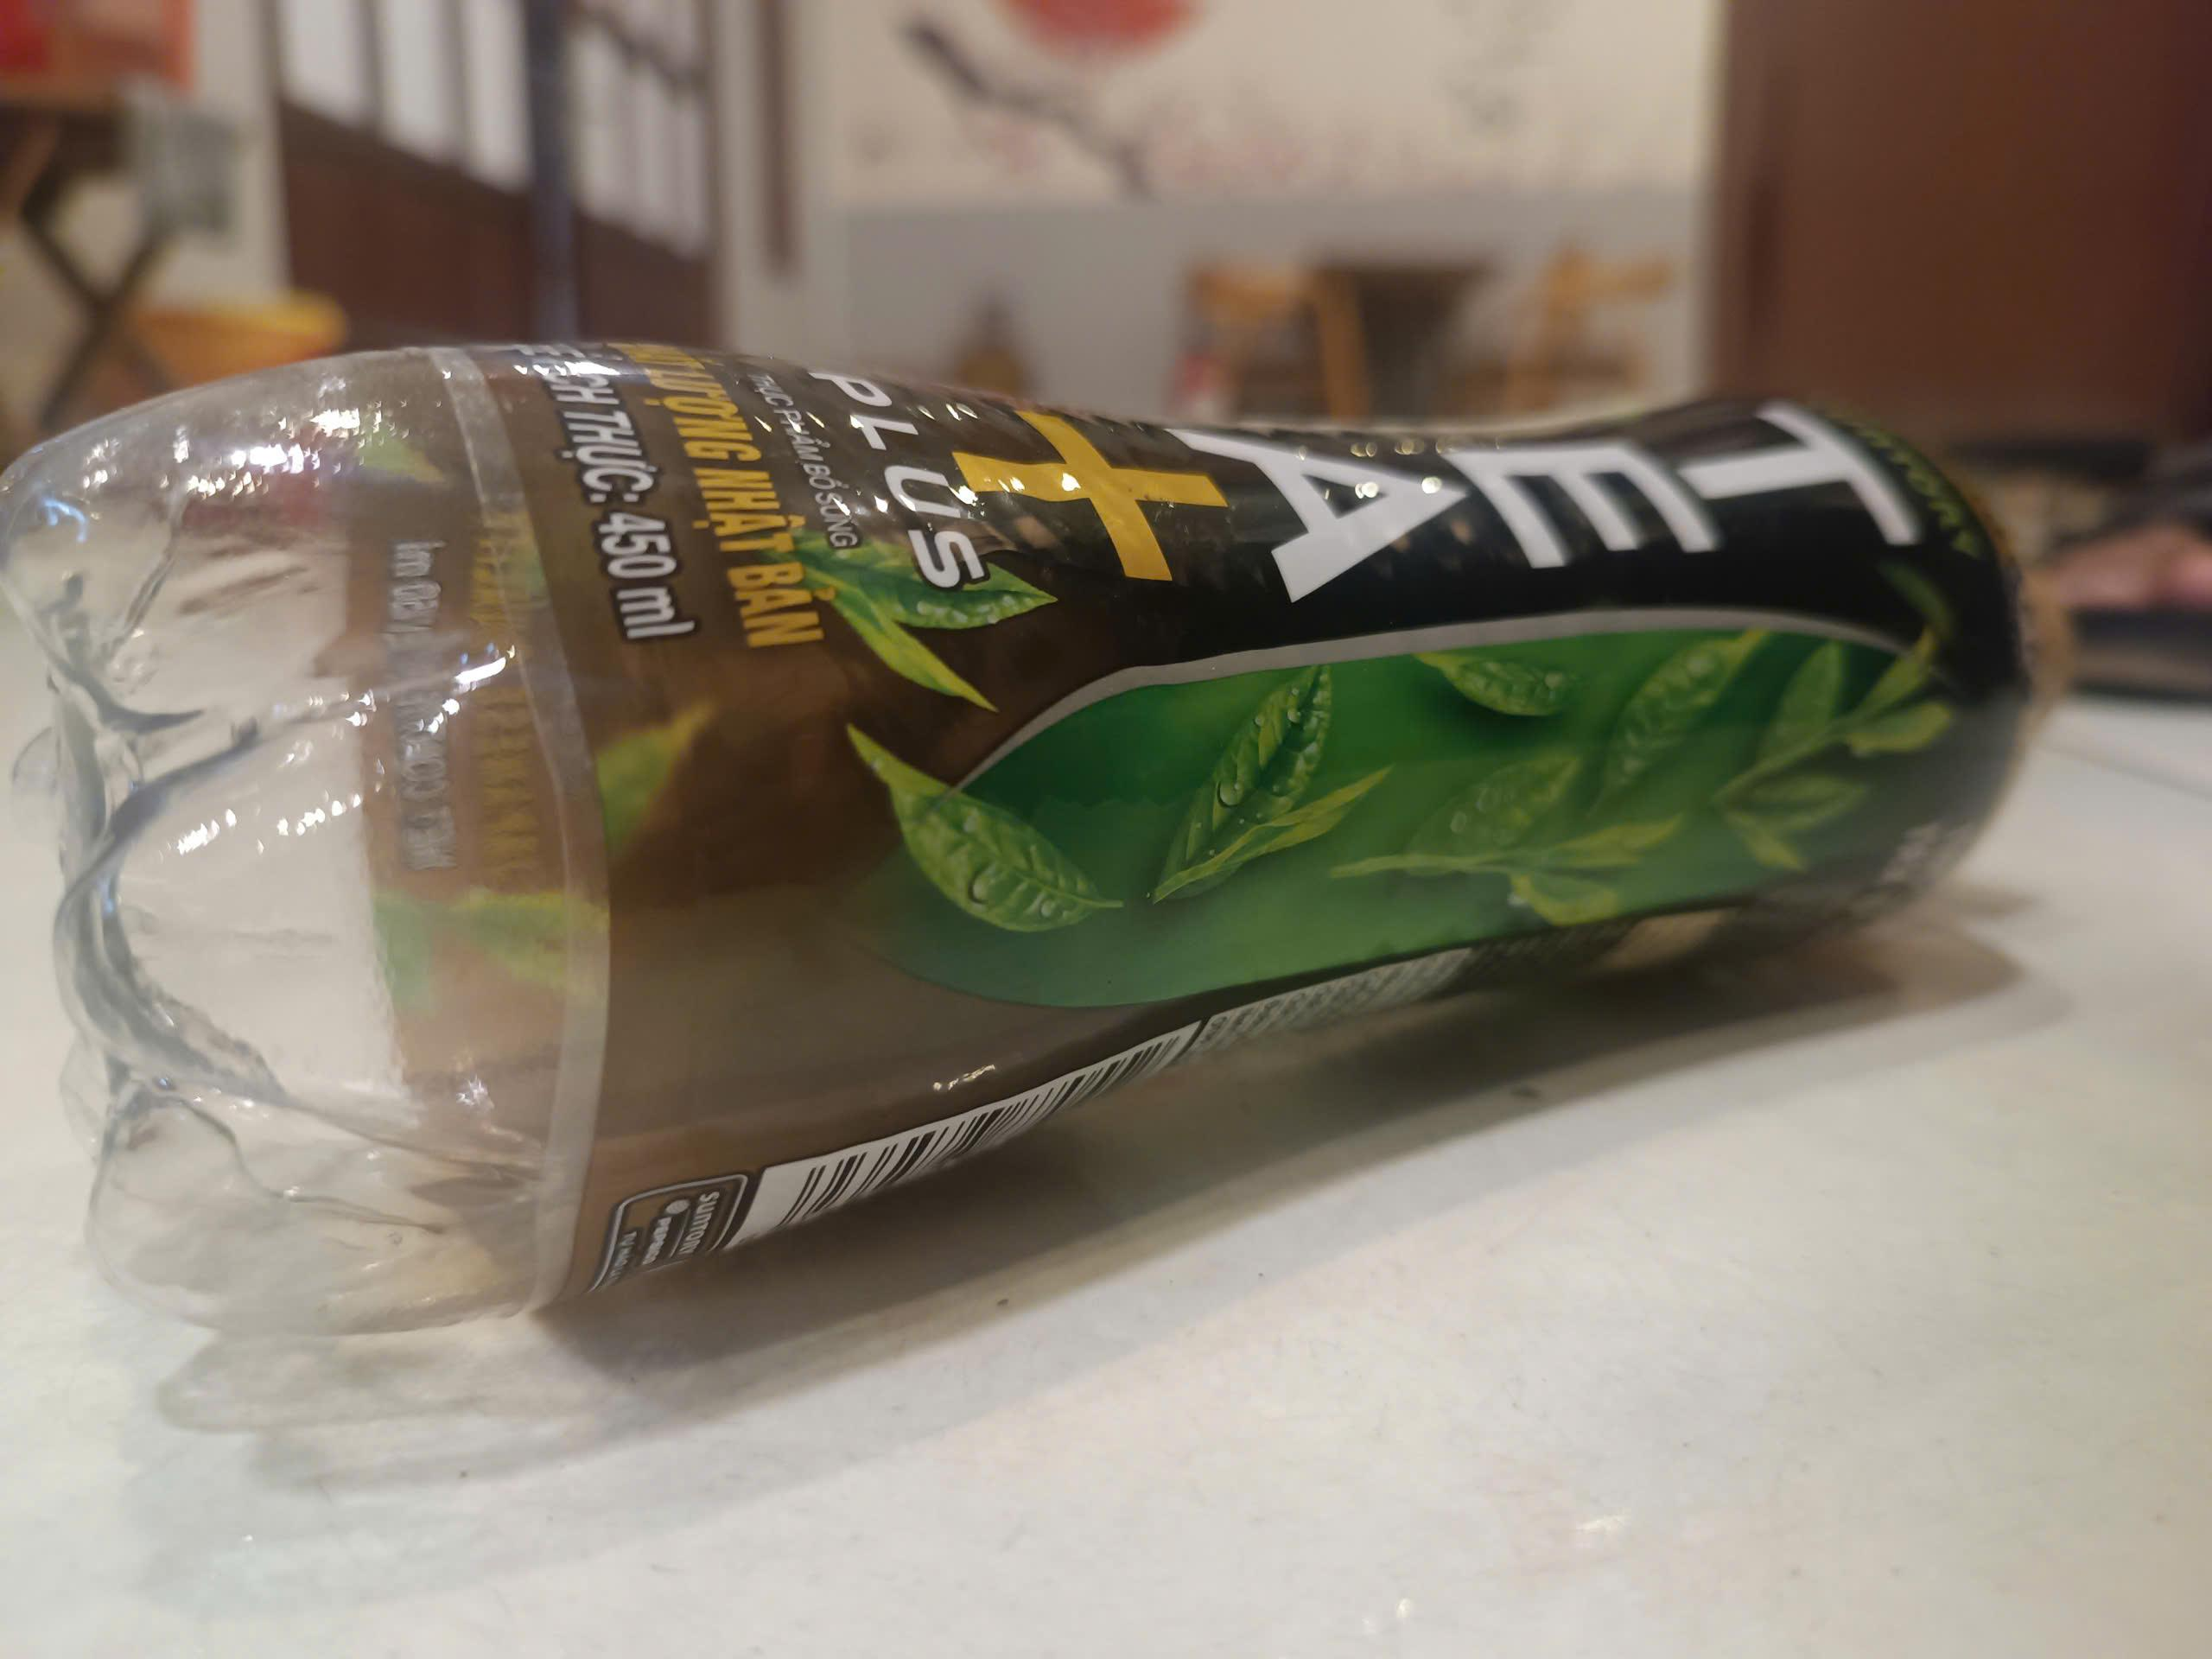Vo co: (9, 340, 2036, 1323)
